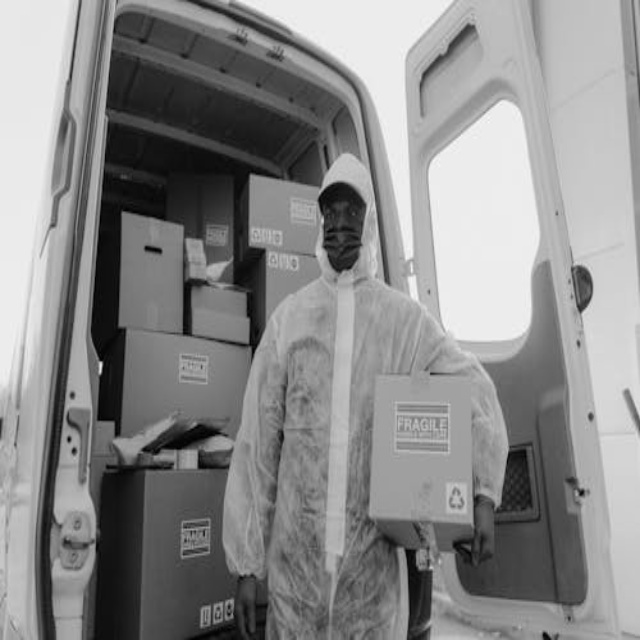Mascara: (322, 223, 363, 271)
Sin_gafas: (320, 200, 361, 227)
Sin_guantes: (470, 495, 497, 567), (234, 571, 260, 638)
